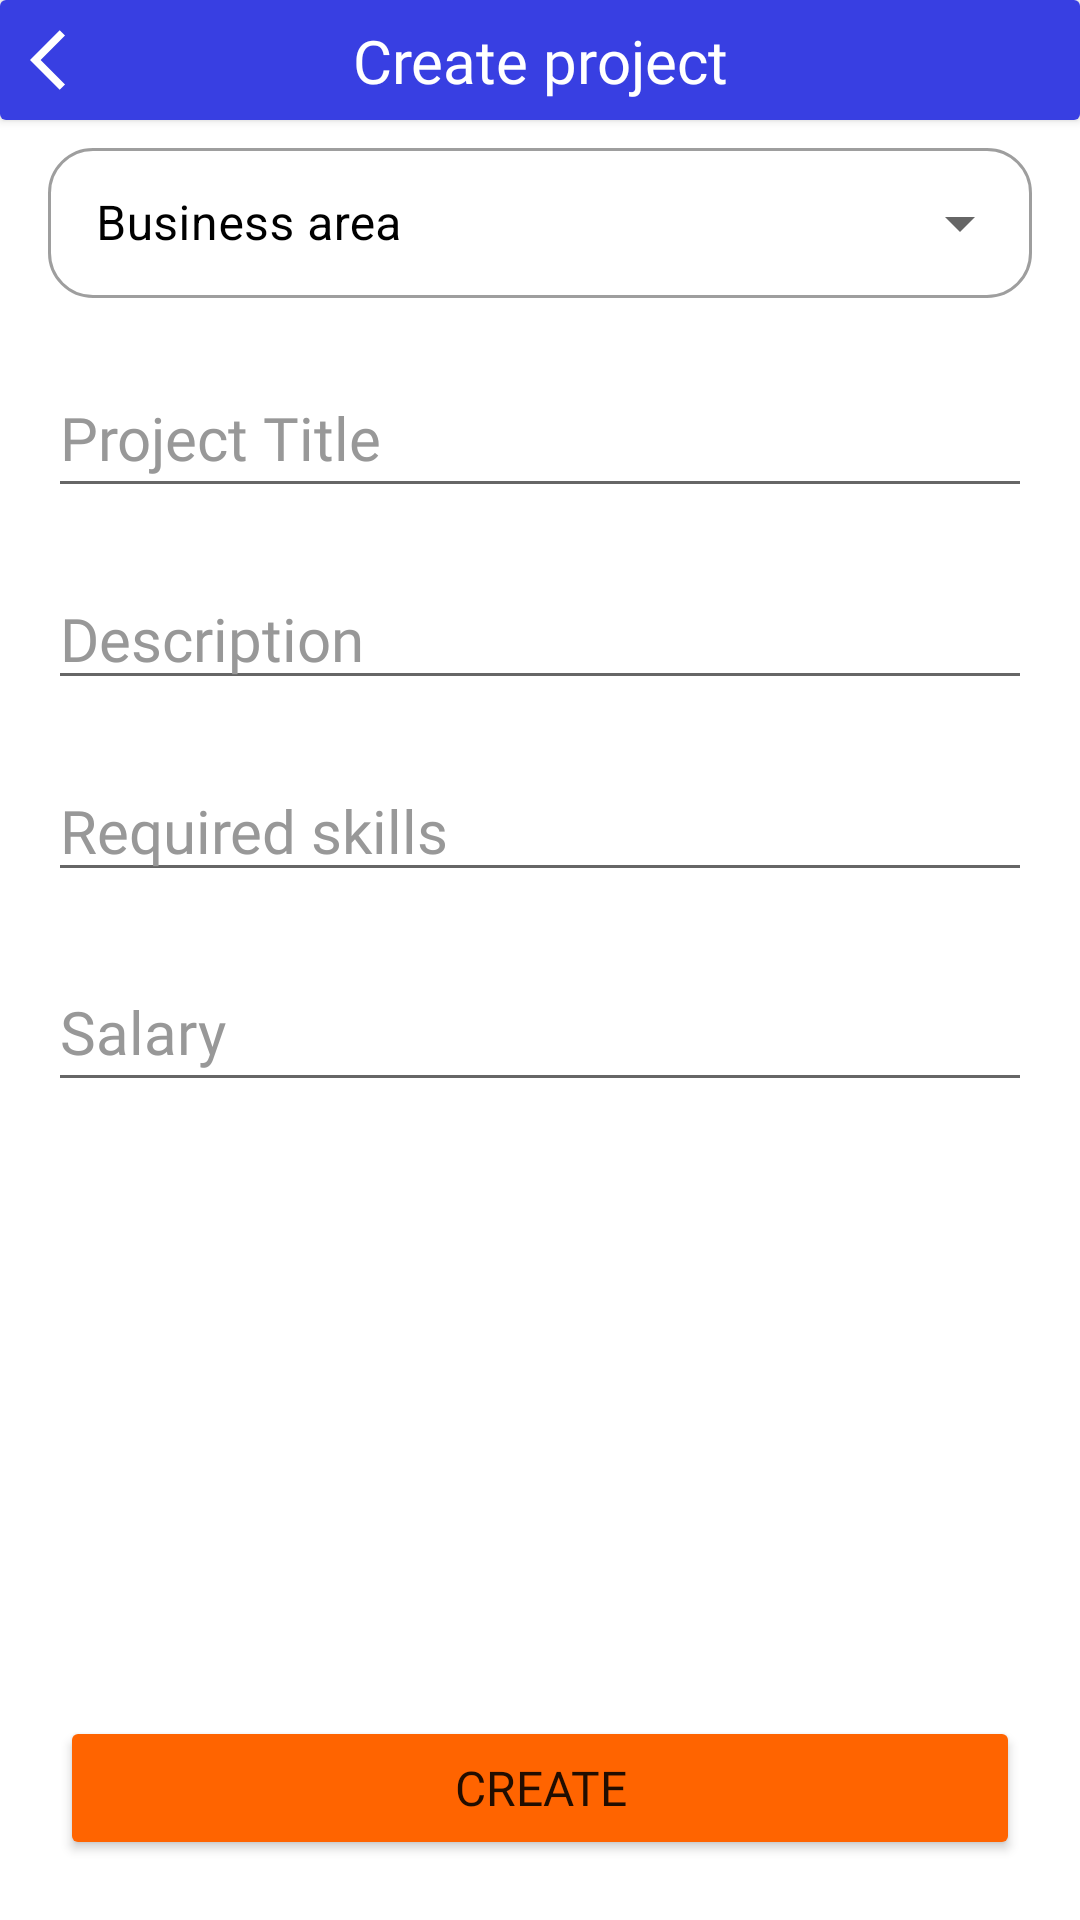

Named icons in this screenshot (1080 × 1920) and their centers, point (x, y):
back: point (47, 60)
